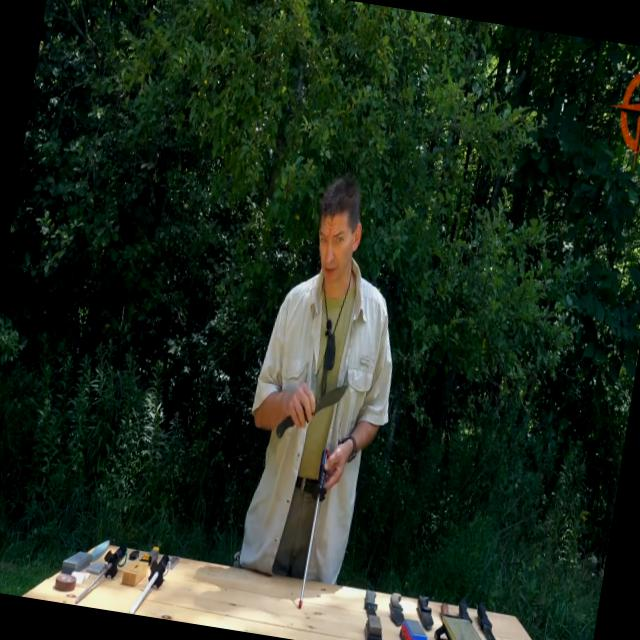knife: (274, 372, 350, 448)
